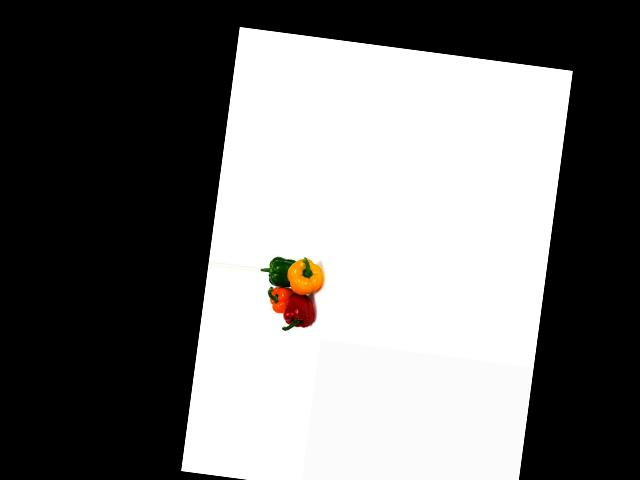bell_pepper: (284, 253, 327, 299)
